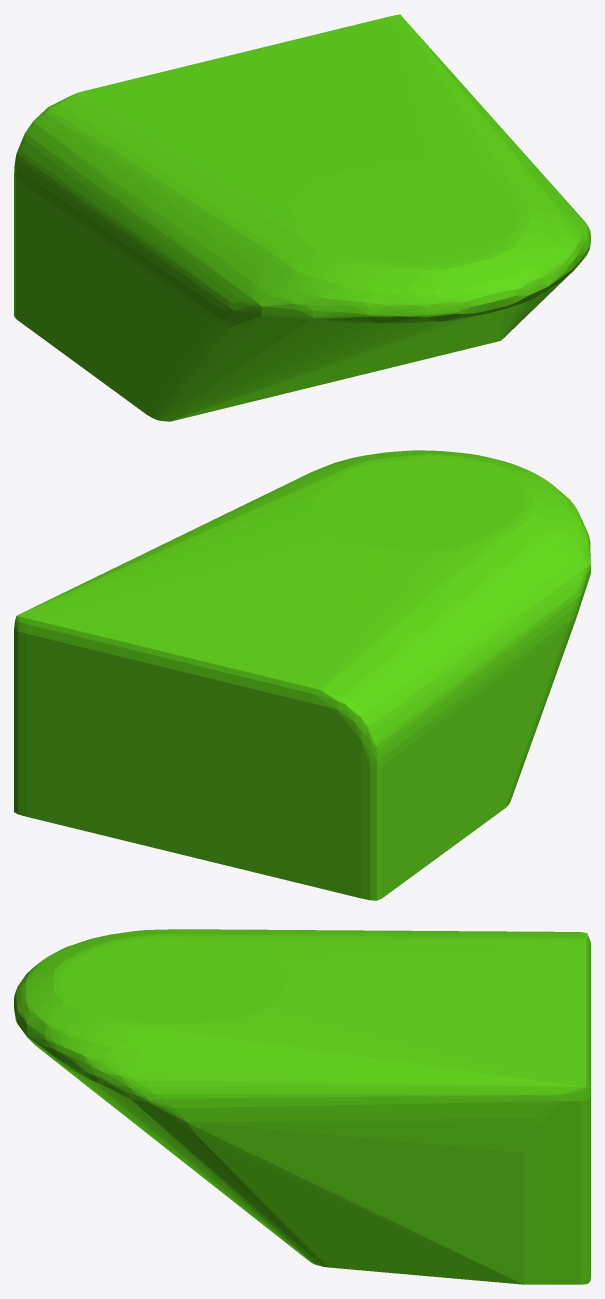
The model's file is left_palm_part_17.obj.
3 views of the same model, one above another, from view 1: azimuth 30°, elevation 25°; view 2: azimuth 150°, elevation 25°; view 3: azimuth 270°, elevation 25° (orthographic). The views are drawn at different scales.
Size of the model in its own units: 20.45 by 10.98 by 27.89.
